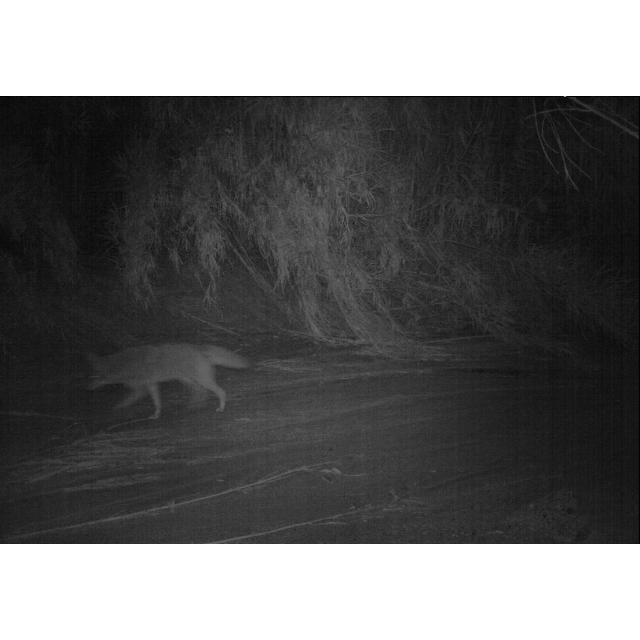animals: (84, 339, 250, 418)
